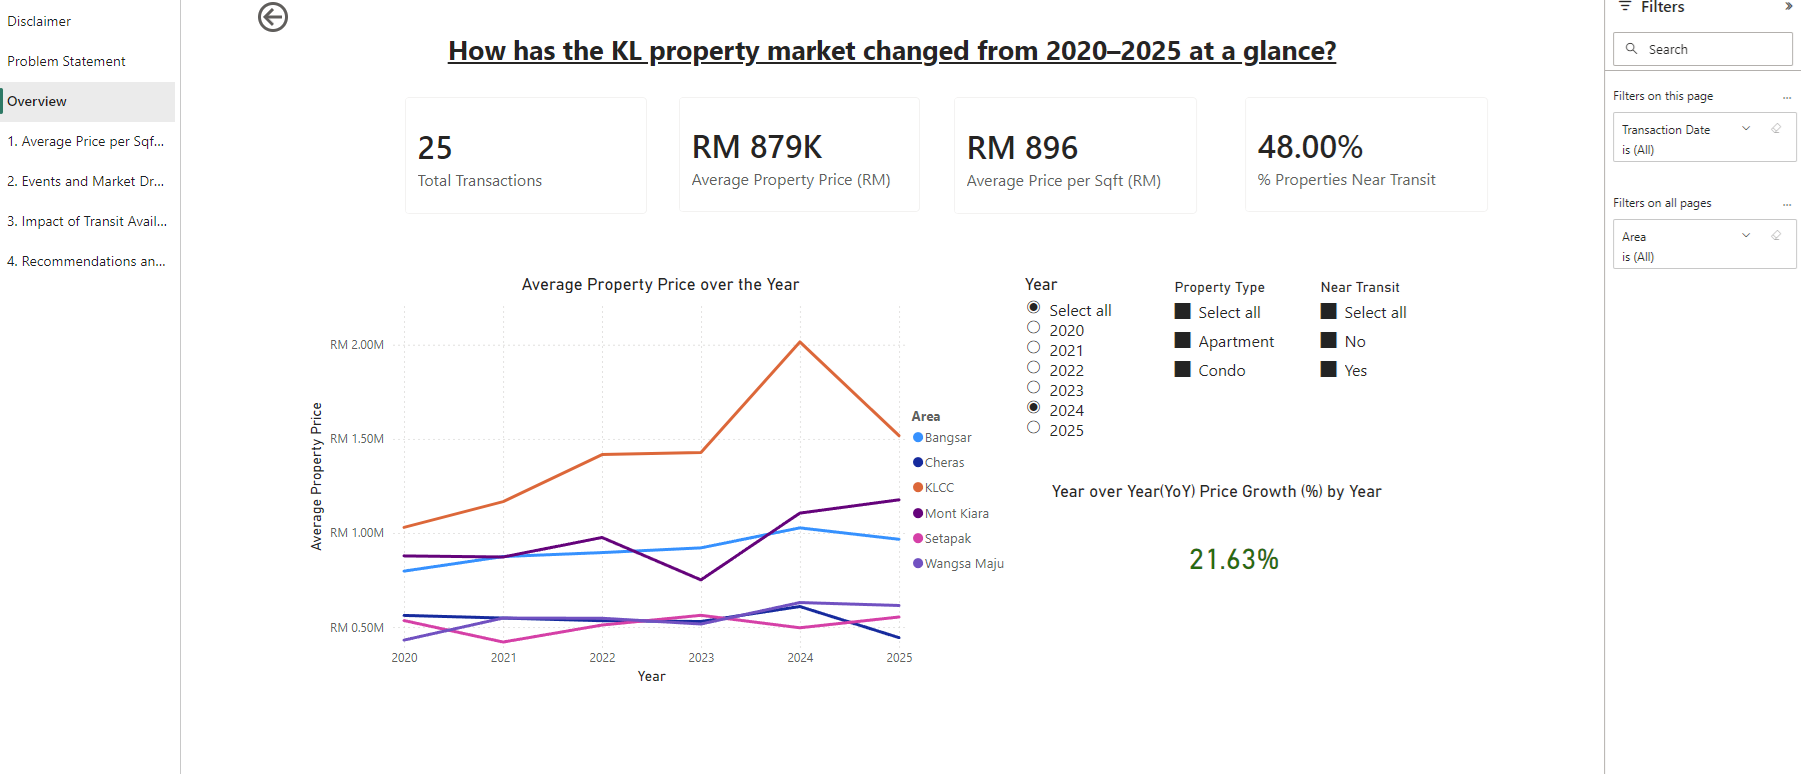

What the dashboard file says about the page in this screenshot:
{"tool":"powerbi","page":{"name":"Overview","canvas":[1280,720],"ordinal":2},"visuals":[{"type":"textbox","box":[135.1,29.2,1008.6,54.1],"z":0},{"type":"cardVisual","fields":{"Data":["kl_housing_prices_2020_2025_synthetic.Average_Property_Price (RM)"]},"box":[408.6,83.2,275.7,149.2],"z":1000},{"type":"cardVisual","fields":{"Data":["kl_housing_prices_2020_2025_synthetic.Average Price per Sqft (RM)"]},"box":[684.3,83.2,276.8,150.3],"z":2000},{"type":"cardVisual","fields":{"Data":["kl_housing_prices_2020_2025_synthetic.Total Transactions"]},"box":[135.1,83.2,275.7,150.3],"z":3000},{"type":"actionButton","box":[0,0,100,40],"z":4000},{"type":"cardVisual","fields":{"Data":["kl_housing_prices_2020_2025_synthetic.% Properties Near Transit"]},"box":[975.1,83.2,276.8,149.2],"z":5000},{"type":"kpi","title":"Year over Year(YoY)  Price Growth (%) by Year","fields":{"Indicator":["kl_housing_prices_2020_2025_synthetic.Year over Year Price Growth (%)"],"TrendLine":["Date Table.Date.Variation.Date Hierarchy.Year"]},"box":[794.1,483.9,375.3,135.4],"z":7000},{"type":"lineChart","title":"Average Property Price over the Year","fields":{"Y":["kl_housing_prices_2020_2025_synthetic.Avg Price"],"Category":["kl_housing_prices_2020_2025_synthetic.Transaction Date"],"Series":["kl_housing_prices_2020_2025_synthetic.location"]},"box":[49.7,276.8,716.8,415.1],"z":8000},{"type":"listSlicer","fields":{"Values":["Date Table.Date.Variation.Date Hierarchy.Year"]},"box":[767.2,277.1,142.7,189.2],"z":8500},{"type":"slicer","fields":{"Values":["kl_housing_prices_2020_2025_synthetic.property_type"]},"box":[908.8,277.1,145.8,149.9],"z":10500},{"type":"slicer","fields":{"Values":["kl_housing_prices_2020_2025_synthetic.near_transit"]},"box":[1054.6,277.1,138.5,149.9],"z":11500}]}

Visuals, with their boxes on the page's 1280x720 design canvas (x1, y1, x2, y2). These are canvas units, not pixel positions in the 1801x774 screenshot, which may show the page scaled, cropped or inside an application window:
textbox: (135,29,1144,83)
cardVisual - kl_housing_prices_2020_2025_synthetic.Average_Property_Price (RM): (409,83,684,232)
cardVisual - kl_housing_prices_2020_2025_synthetic.Average Price per Sqft (RM): (684,83,961,234)
cardVisual - kl_housing_prices_2020_2025_synthetic.Total Transactions: (135,83,411,234)
actionButton: (0,0,100,40)
cardVisual - kl_housing_prices_2020_2025_synthetic.% Properties Near Transit: (975,83,1252,232)
"Year over Year(YoY)  Price Growth (%) by Year" kpi: (794,484,1169,619)
"Average Property Price over the Year" lineChart: (50,277,766,692)
listSlicer - Date Table.Date.Variation.Date Hierarchy.Year: (767,277,910,466)
slicer - kl_housing_prices_2020_2025_synthetic.property_type: (909,277,1055,427)
slicer - kl_housing_prices_2020_2025_synthetic.near_transit: (1055,277,1193,427)
